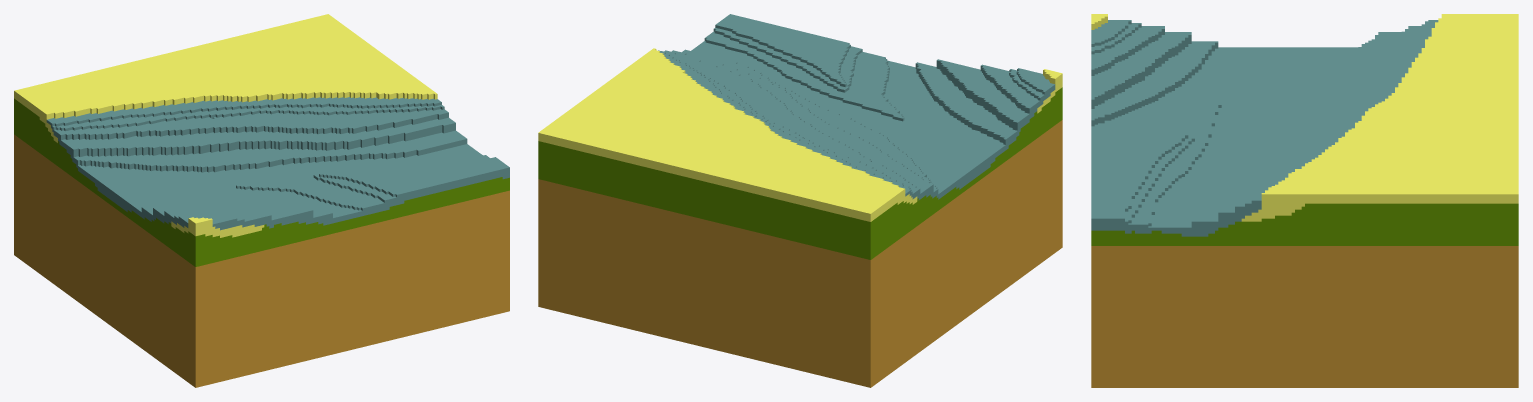
3 renders of one model, left to right at view 1: azimuth 30°, elevation 25°; view 2: azimuth 150°, elevation 25°; view 3: azimuth 270°, elevation 25°, orthographic. The views are drawn at different scales.
Visible parts, largest first — view 1: 11J; view 2: 11J; view 3: 11J.
Part boxes in pixels (x1=…): 11J: x1=14, y1=14, x2=509, y2=387; 11J: x1=538, y1=14, x2=1062, y2=387; 11J: x1=1091, y1=14, x2=1518, y2=387.
Bounding box in the file's own units: 12.8 × 6.4 × 12.8.
1 material, 1 textured.
